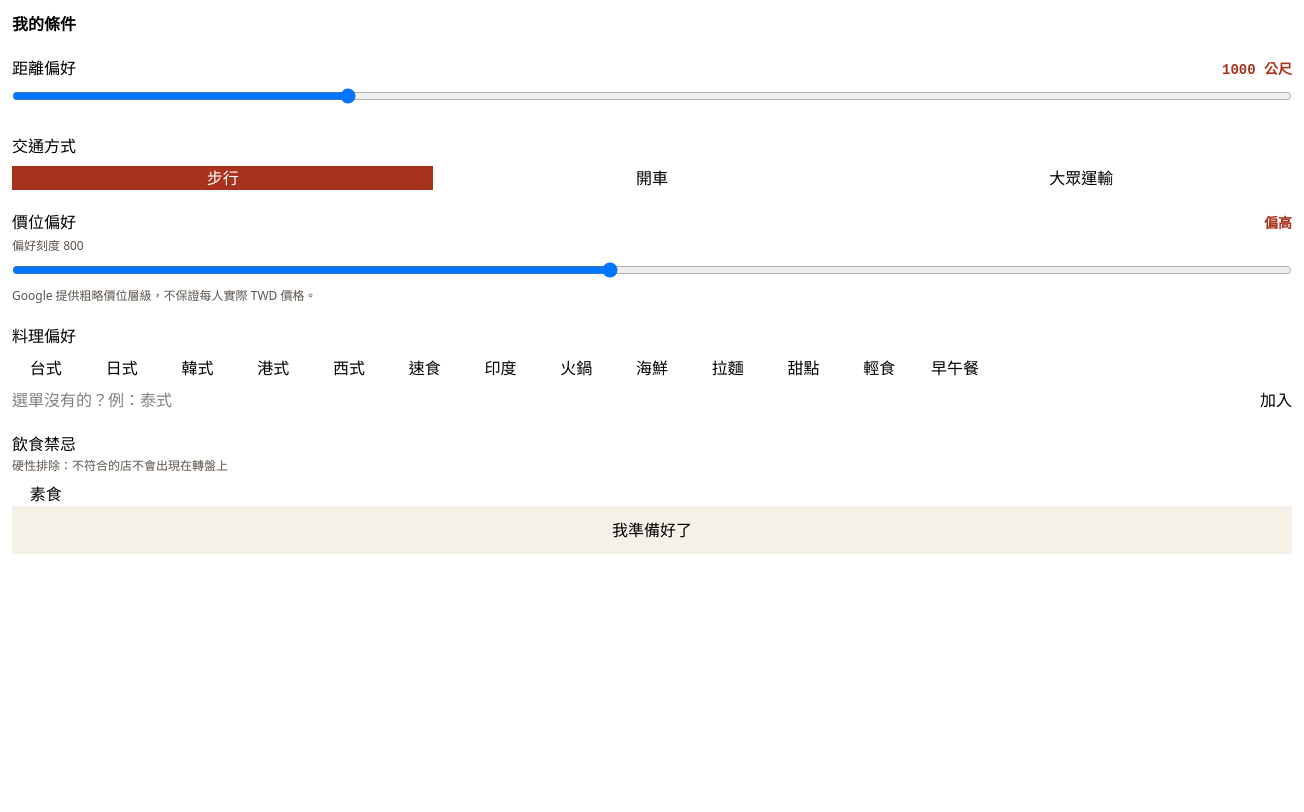
Scenario: ConditionsForm 條件寫入防線 › 最新條件寫入失敗（PATCH 回錯誤）會回到最後 durable snapshot 並呈現 role=alert
Set the slider labelled "價位偏好 偏高 偏好刻度 800 Google 提供粗略價位層級，不保證每人實際 TWD 價格。" to "900" at [694, 270], box [12, 258, 1292, 282]
Wait 401 ms
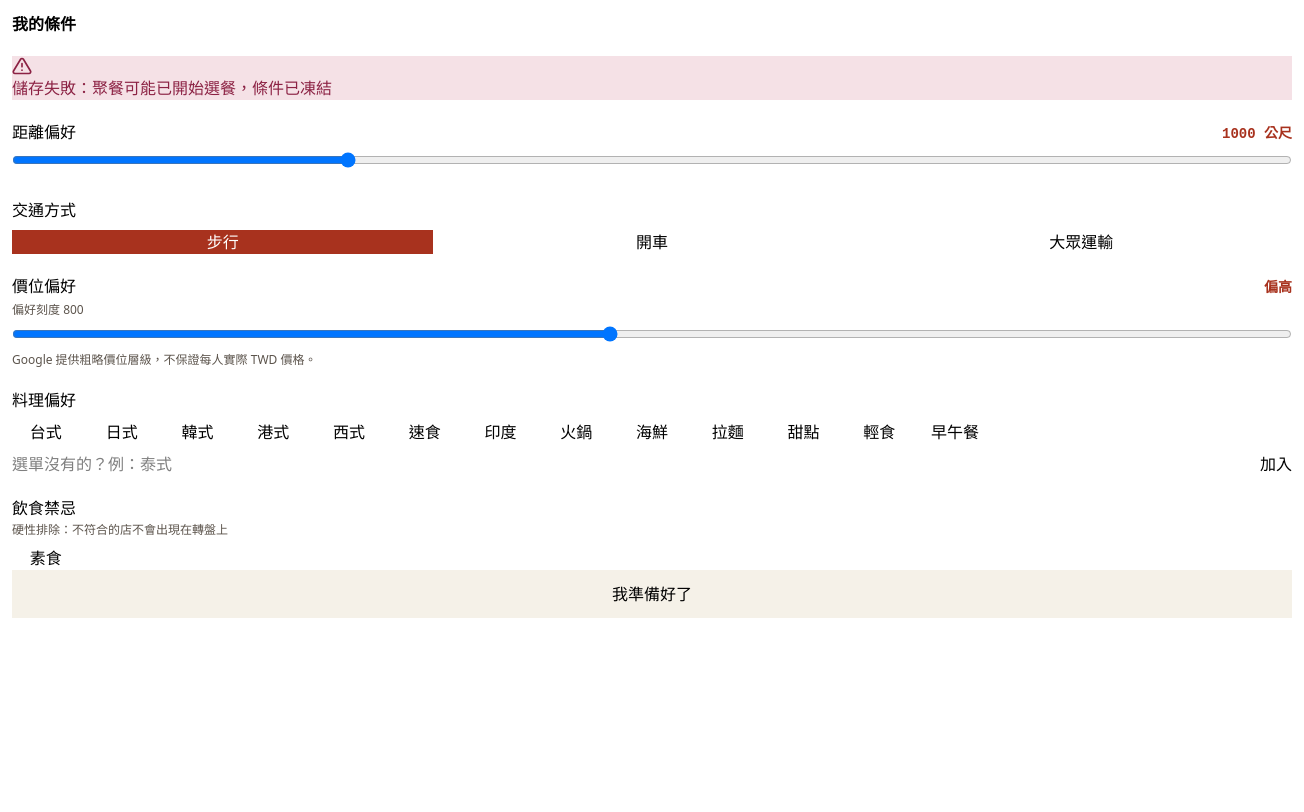
Expected: the slider labelled "價位偏好 偏高 偏好刻度 800 Google 提供粗略價位層級，不保證每人實際 TWD 價格。" holds "800", [12, 322, 1292, 346]
Expected: the text "儲存失敗：聚餐可能已開始選餐，條件已凍結" is shown, [12, 77, 332, 99]
